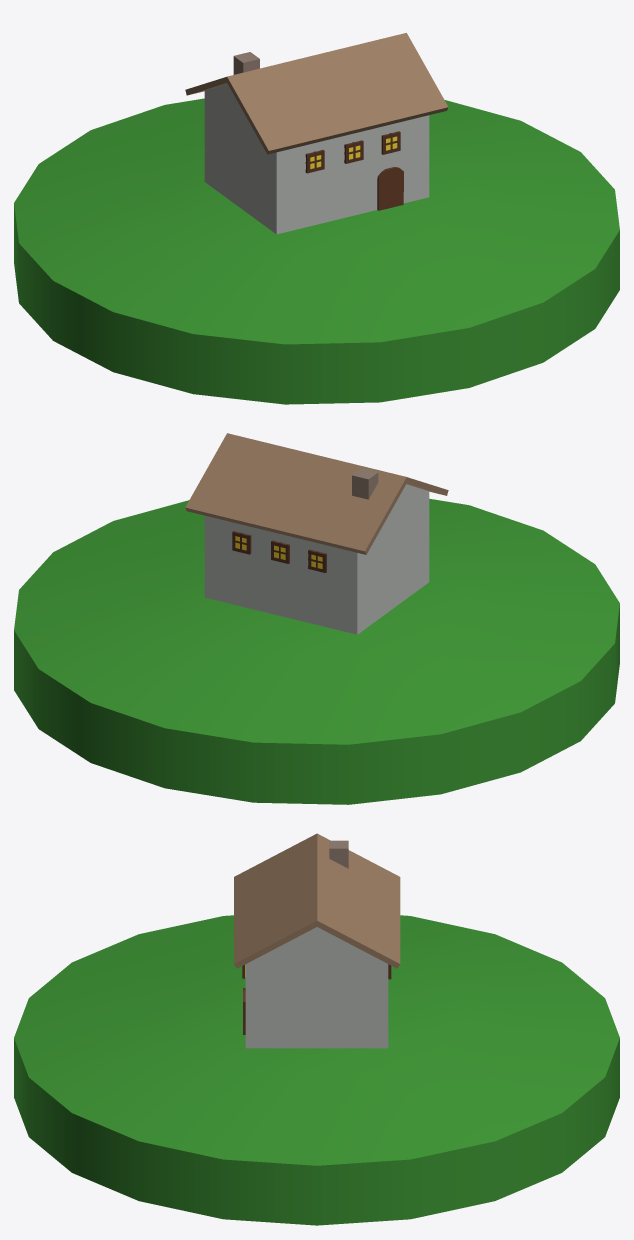
File: house.glb
3 renders of one model, top to bottom at view 1: azimuth 30°, elevation 25°; view 2: azimuth 150°, elevation 25°; view 3: azimuth 270°, elevation 25°, orthographic.
Visible parts, largest first — view 1: ground, house, roof; view 2: ground, house, roof, chimney; view 3: ground, roof, house.
Boxes of the visible parts, x1,y1,x2,y2 form: ground: (14, 98, 619, 404); house: (204, 84, 429, 234); roof: (185, 33, 448, 154); ground: (14, 498, 619, 804); house: (204, 484, 429, 634); roof: (185, 433, 448, 554); chimney: (352, 468, 378, 499); ground: (14, 915, 619, 1225); roof: (234, 833, 400, 968); house: (243, 927, 388, 1048).
Bounding box in the file's own units: 6.71 × 2.74 × 6.71.
